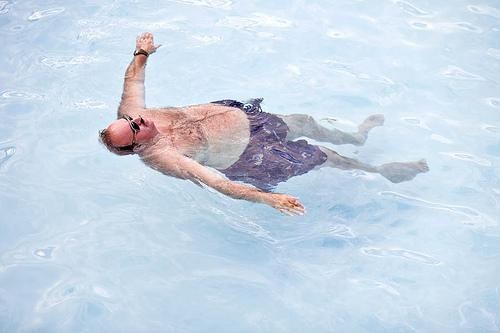swimmer: (100, 30, 430, 218)
